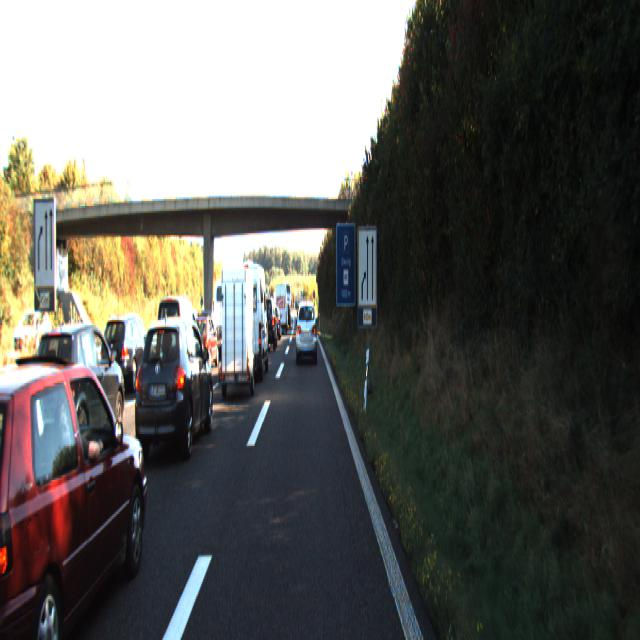Car: (0, 348, 155, 638), (27, 317, 129, 464), (133, 311, 215, 463), (215, 263, 257, 399), (156, 291, 203, 393), (231, 260, 269, 380), (100, 311, 156, 392), (190, 313, 219, 371), (296, 298, 317, 362), (257, 294, 277, 349), (275, 281, 288, 330)
